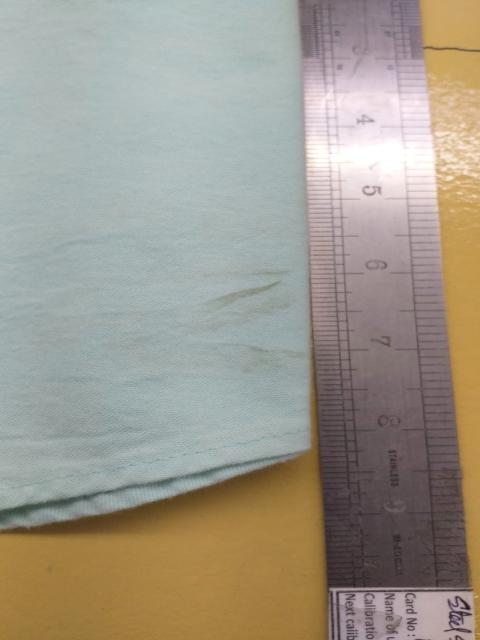Dirty_mark: (191, 275, 289, 319), (204, 336, 304, 361)
